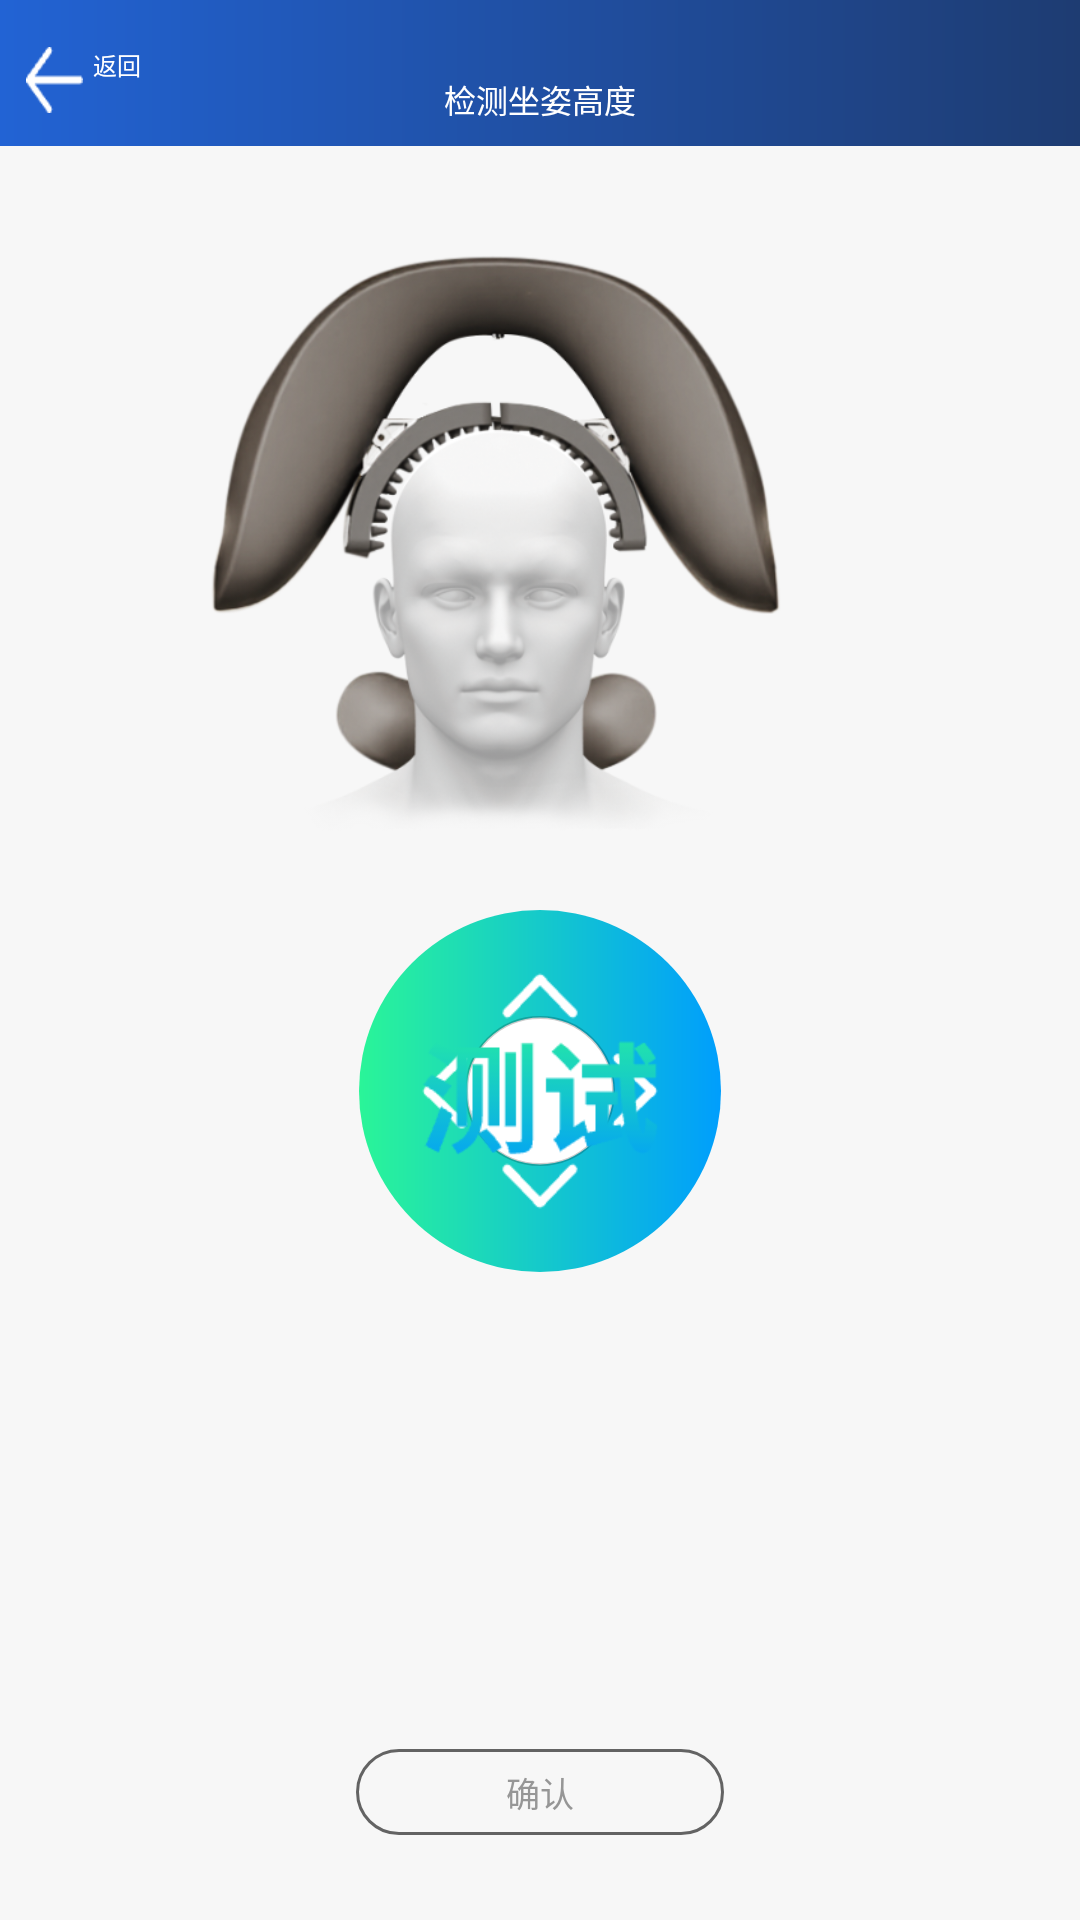

Icon click points for this 1080×1920 phone screenshot, format (x=x, y=y):
arrow bottom: (x=540, y=1186)
arrow top: (x=540, y=996)
